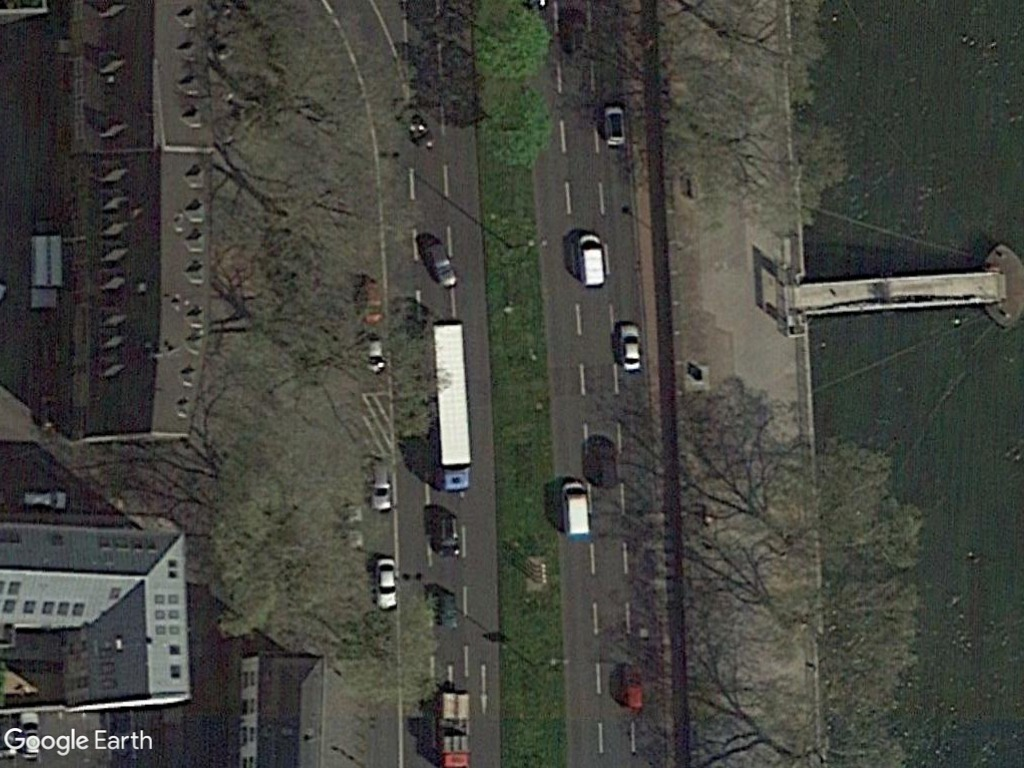car: (607, 313, 649, 378), (369, 550, 405, 618)
longvehicle: (422, 314, 476, 498)
van: (554, 471, 597, 541), (570, 224, 613, 293)
